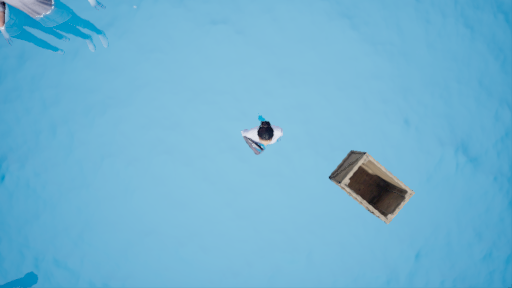person: (242, 116, 291, 159)
